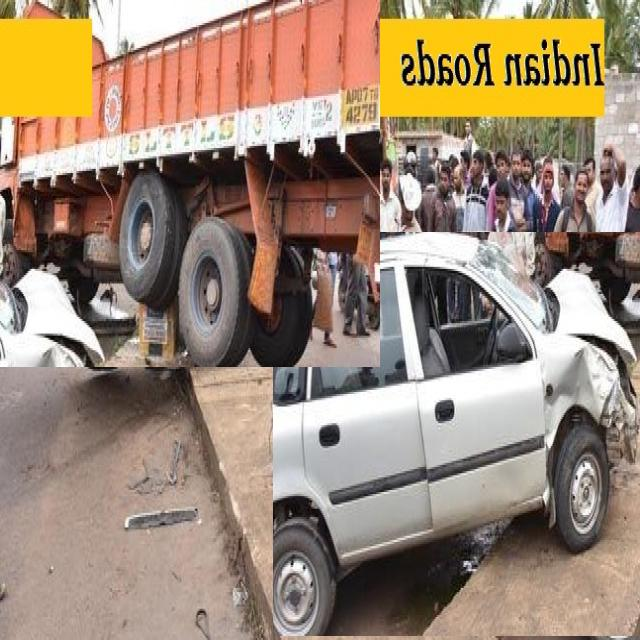accident: (273, 232, 640, 636)
truck: (0, 0, 380, 367)
